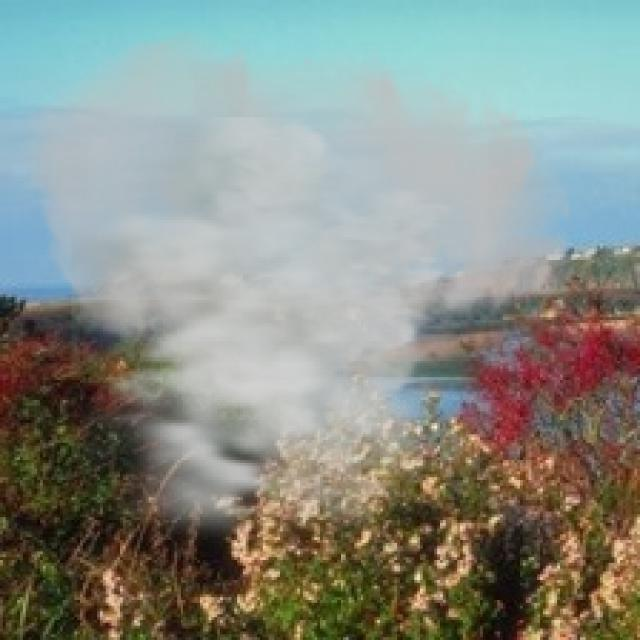smoke: (17, 28, 577, 563)
